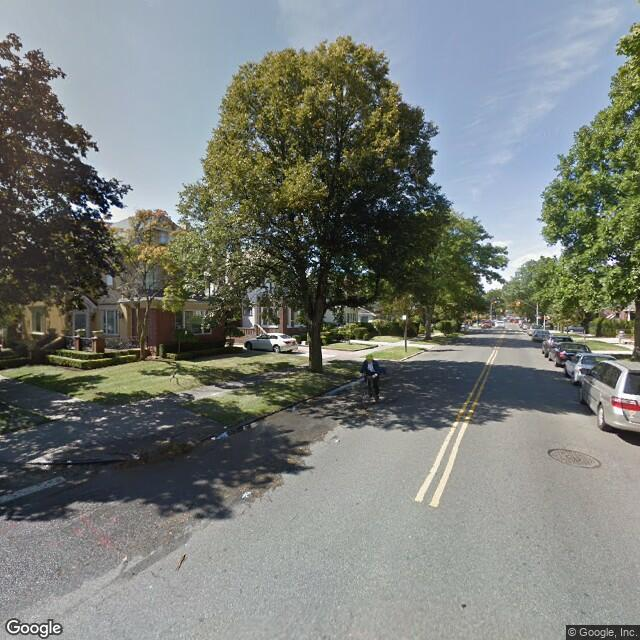litter: (281, 399, 311, 422), (58, 451, 92, 470), (205, 426, 229, 449)
